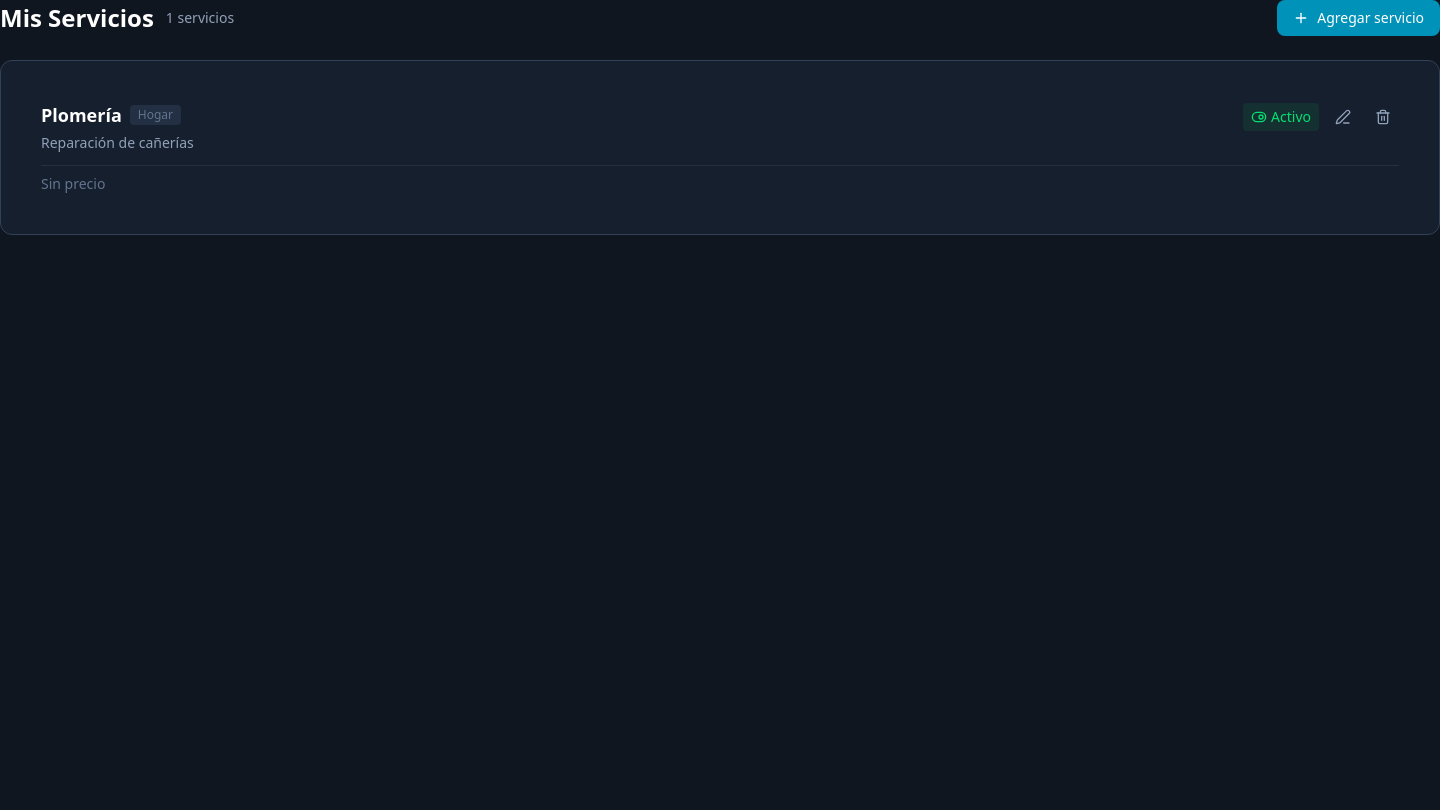
MisServiciosPage › pide confirmación antes de eliminar un servicio del muro y lo elimina al confirmar
expect the heading "Plomería" is shown: met, box [41,101,122,129]
// Abrir el diálogo de confirmación
What coordinates should you click on to do the following:
click the button with test id "eliminar-servicio-42"
I would click on:
 (1383, 117)
Its box is [1367,101,1399,133].
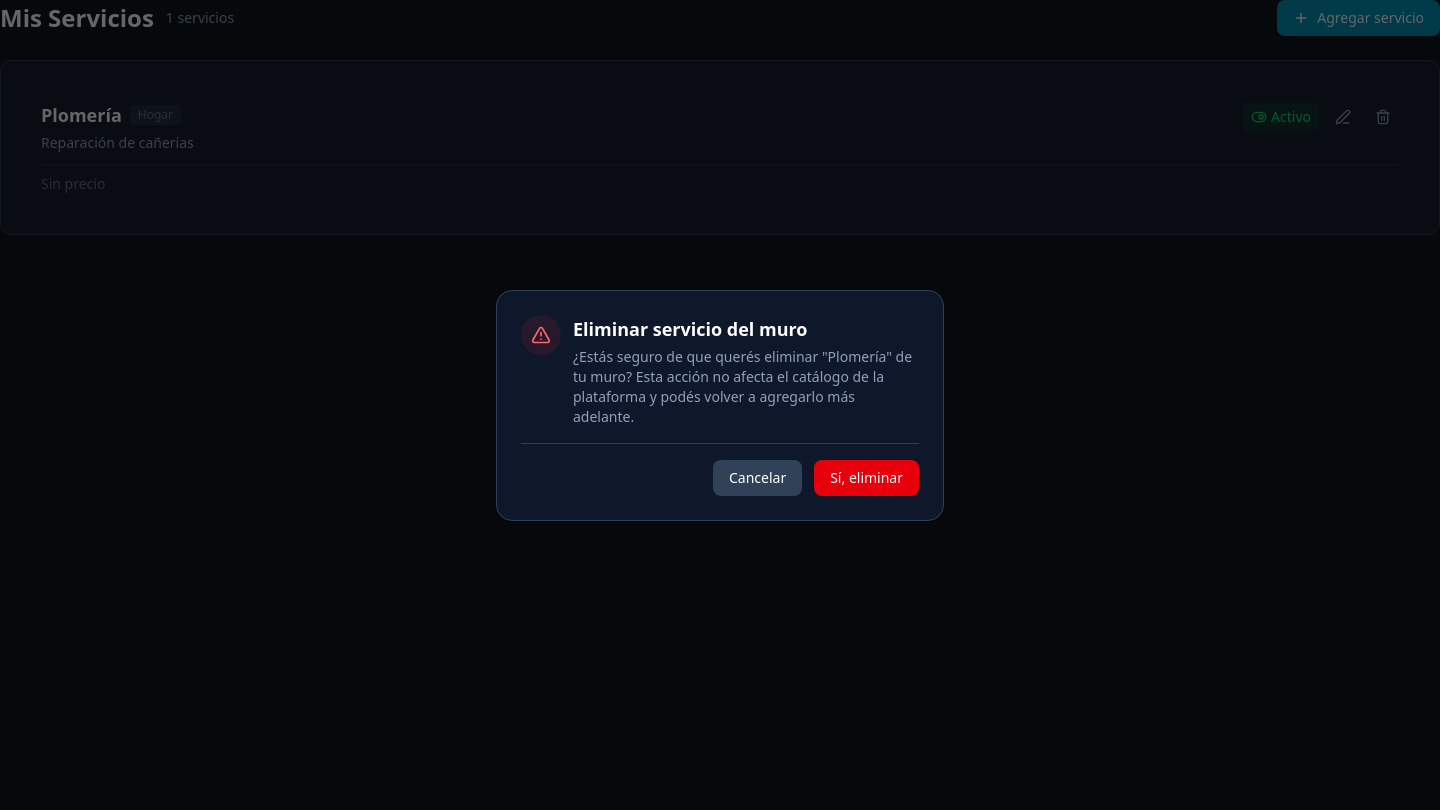
expect the dialog is shown: met
expect the text "¿Estás seguro de que querés eliminar \"Plomería\" de tu muro?" is shown: met, box [573,346,912,426]
// Cancelar: no se llama al backend
What coordinates should you click on to do the following:
click the button with test id "confirm-cancel"
I would click on:
 (758, 478)
Its box is [713,460,802,496].
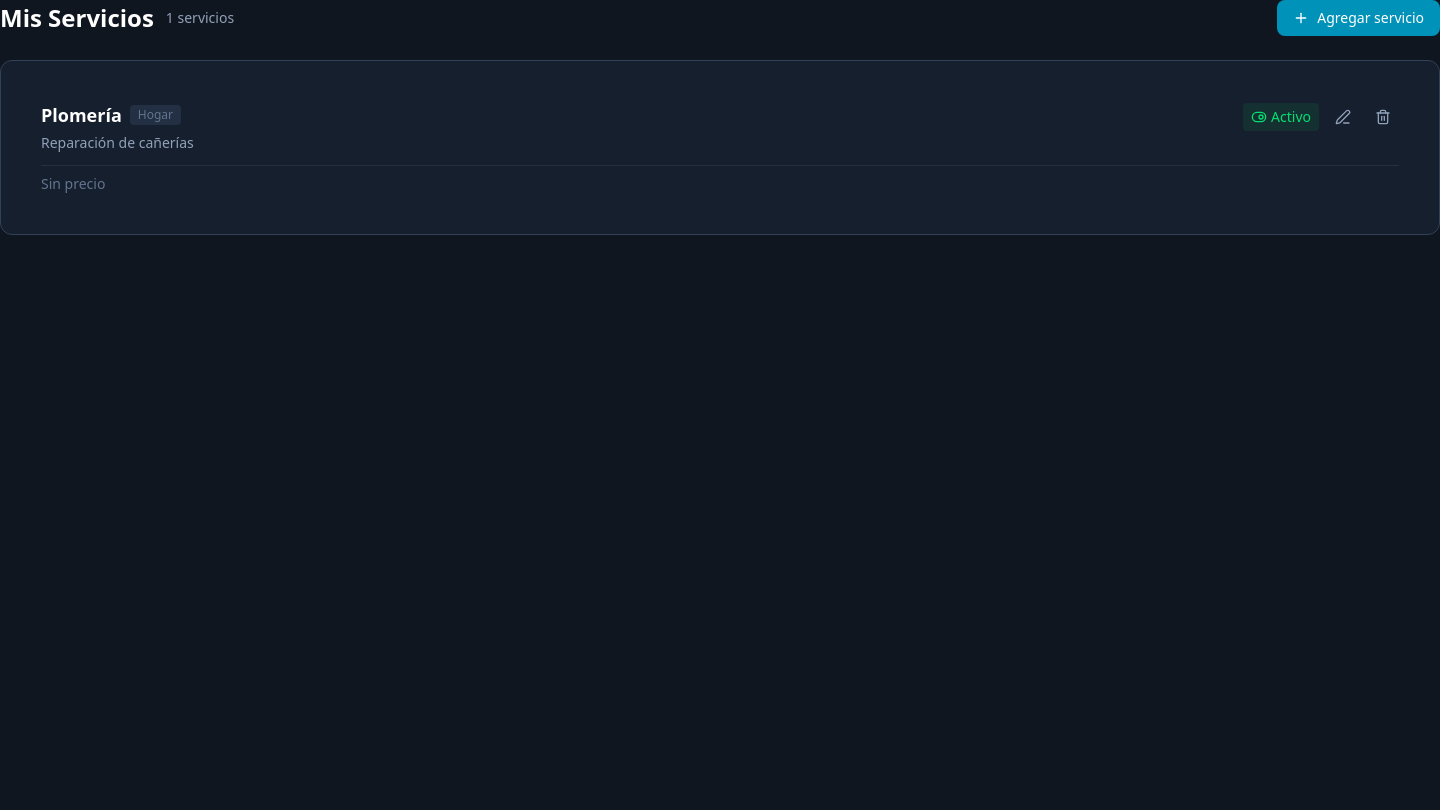
expect the dialog is gone: met
// Reabrir y confirmar: se elimina
What coordinates should you click on to do the following:
click the button with test id "eliminar-servicio-42"
I would click on:
 (1383, 117)
Its box is [1367,101,1399,133].
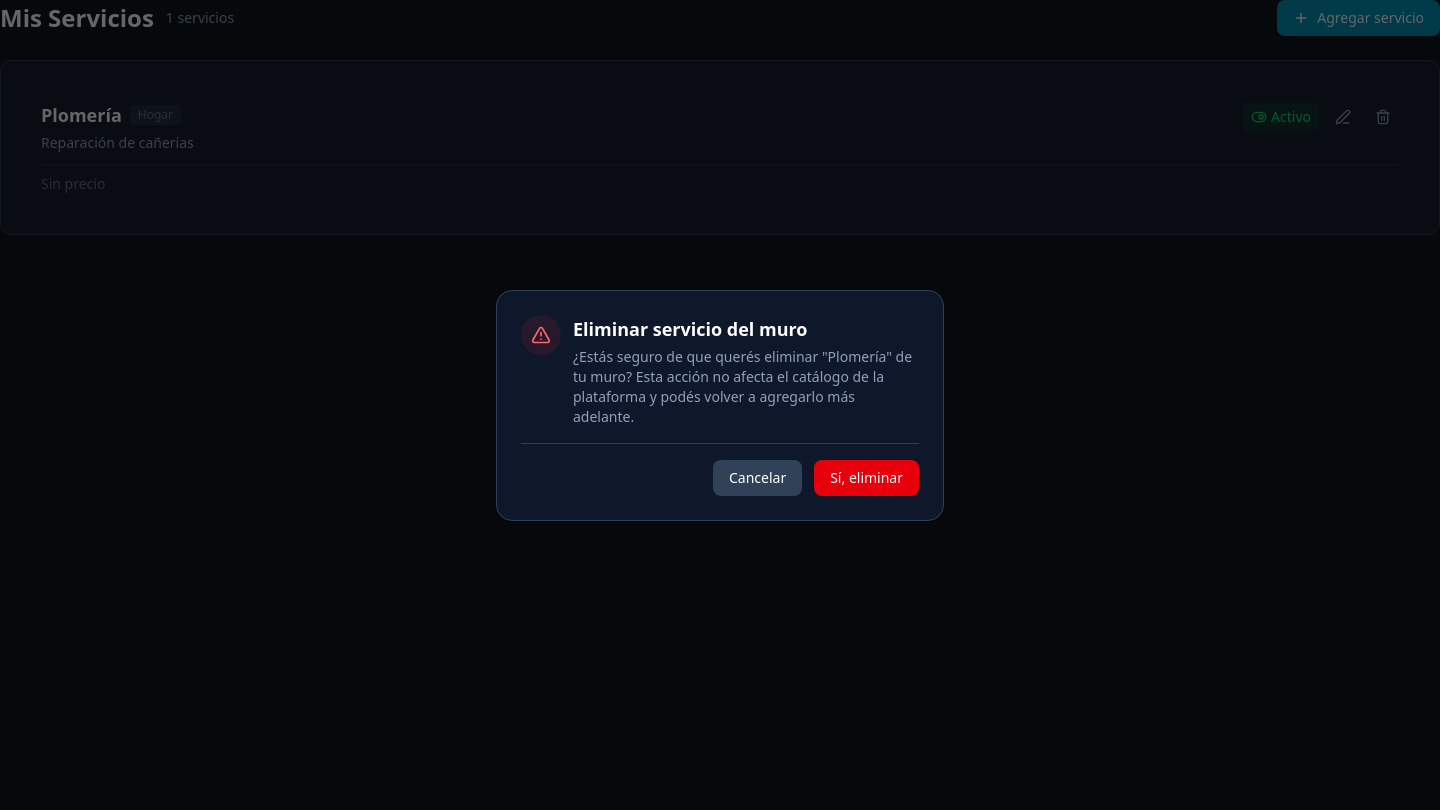
What coordinates should you click on to do the following:
click the button with test id "confirm-accept"
I would click on:
 (867, 478)
Its box is [814,460,919,496].
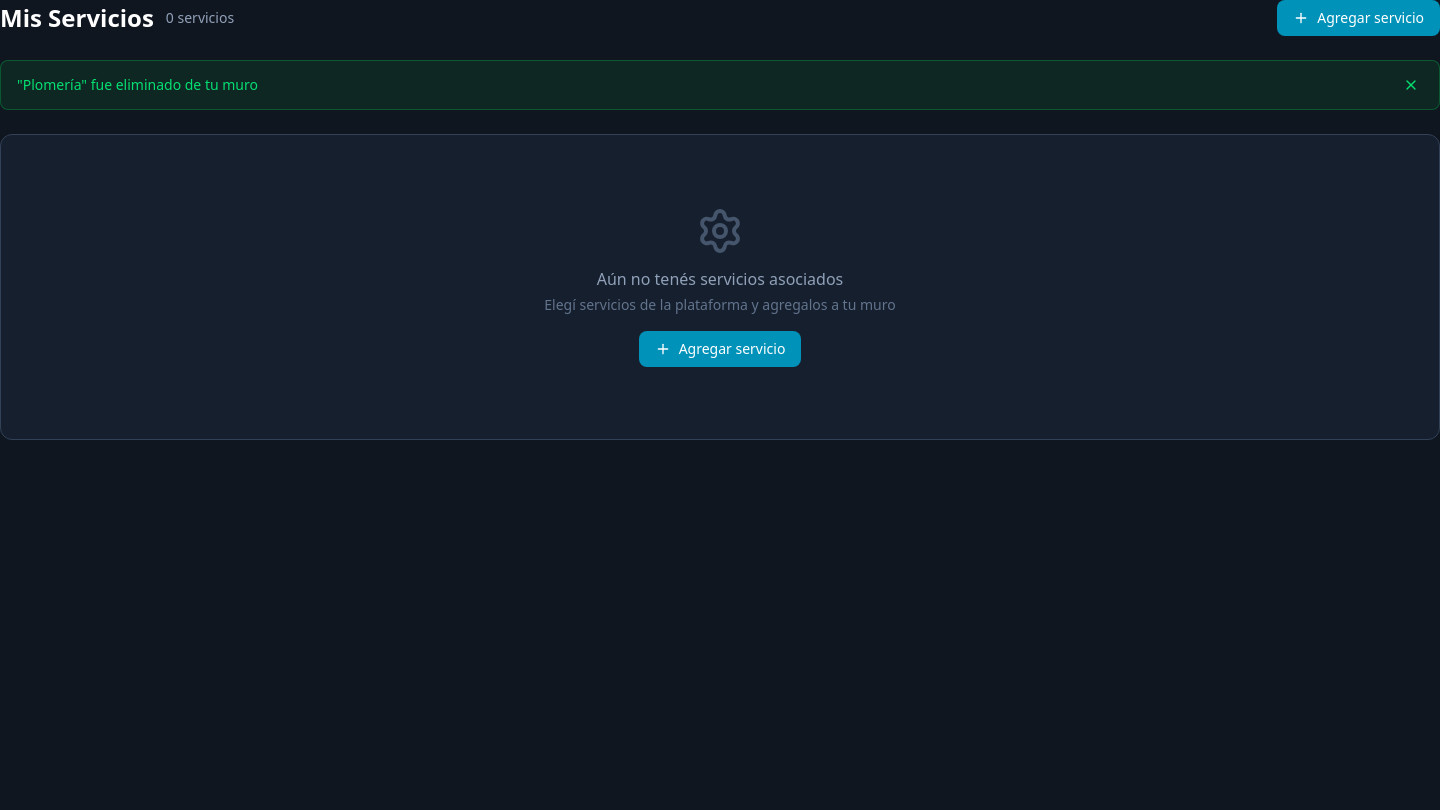
expect the dialog is gone: met
expect the text "\"Plomería\" fue eliminado de tu muro" is shown: met, box [17,75,258,95]
